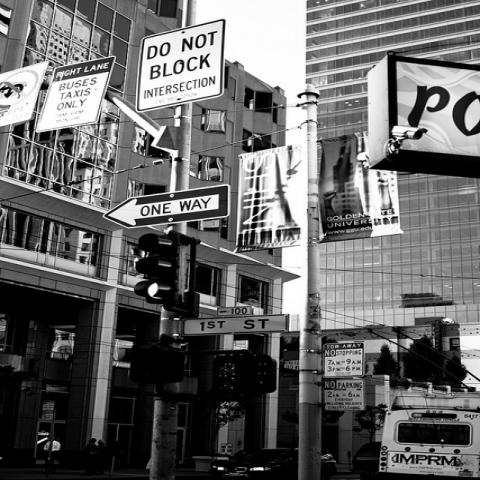bus: (379, 408, 479, 479)
car: (201, 444, 339, 478), (356, 440, 382, 472)
truck: (376, 389, 478, 472)
